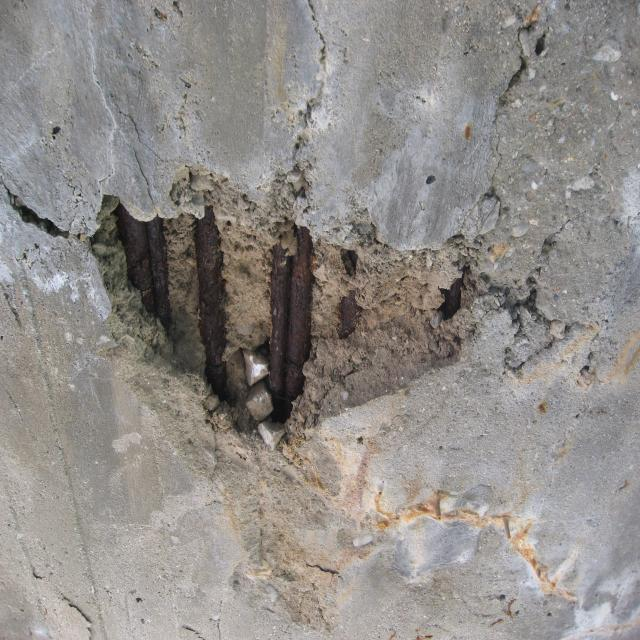corrosion: (108, 181, 368, 451), (376, 592, 532, 640), (460, 119, 476, 145), (536, 401, 547, 417)
